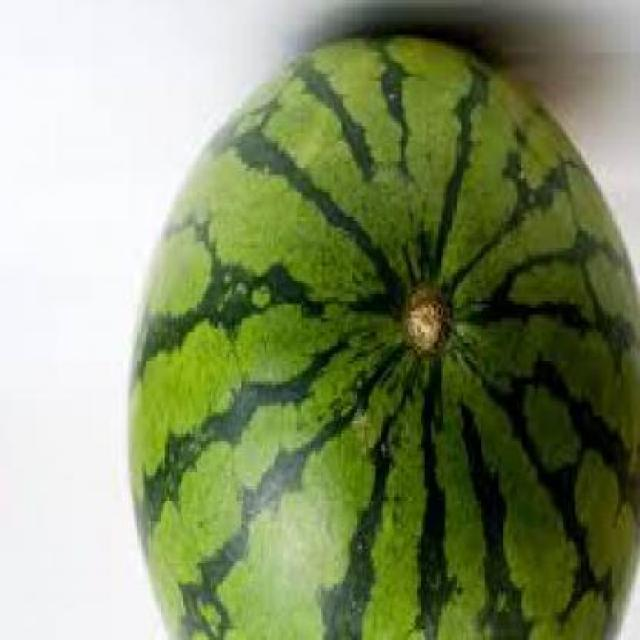BIODEGRADABLE: (124, 31, 638, 638)
